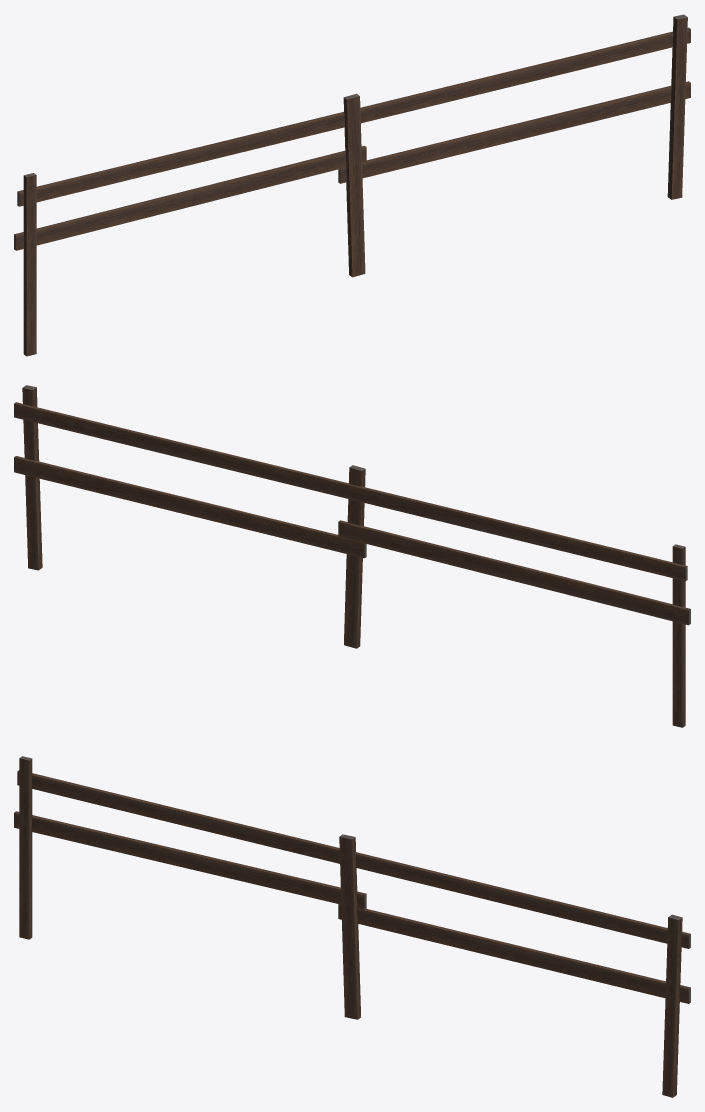
The model's file is fence07b_2t.fbx.
3 views of the same model, one above another, from view 1: azimuth 30°, elevation 25°; view 2: azimuth 150°, elevation 25°; view 3: azimuth 330°, elevation 25° (orthographic).
Visible parts, largest first — view 1: fence07b_2t; view 2: fence07b_2t; view 3: fence07b_2t.
Part boxes in pixels (x1,y1,x2,y2): fence07b_2t: (14,14,690,356); fence07b_2t: (14,385,690,727); fence07b_2t: (14,756,690,1097).
Size of the model in its own units: 448 by 114 by 6.51.
